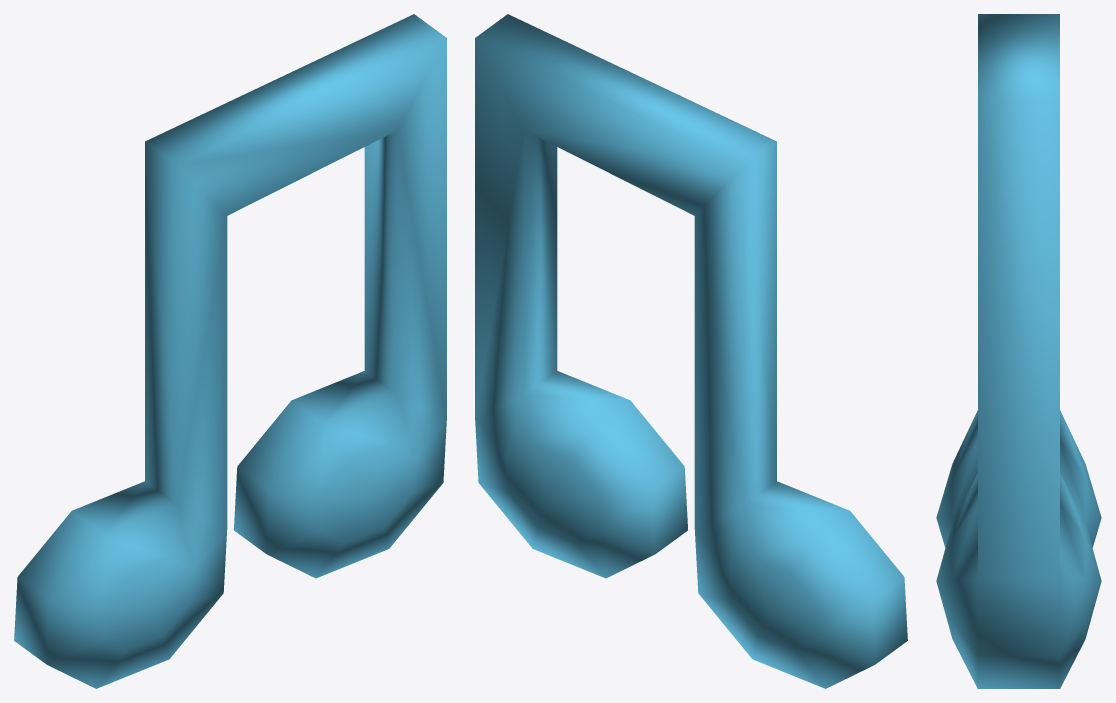
The model's file is MusicNote.fbx.
3 views of the same model, side by side, from view 1: azimuth 30°, elevation 25°; view 2: azimuth 150°, elevation 25°; view 3: azimuth 270°, elevation 25° (orthographic). The views are drawn at different scales.
Parts seen in each view (by area): view 1: noteRed; view 2: noteRed; view 3: noteRed.
Part boxes in pixels (x1,y1,x2,y2): noteRed: [14, 14, 446, 688]; noteRed: [475, 14, 907, 688]; noteRed: [936, 14, 1101, 688].
Bounding box in the file's own units: 2.93 × 3.95 × 0.8355.
